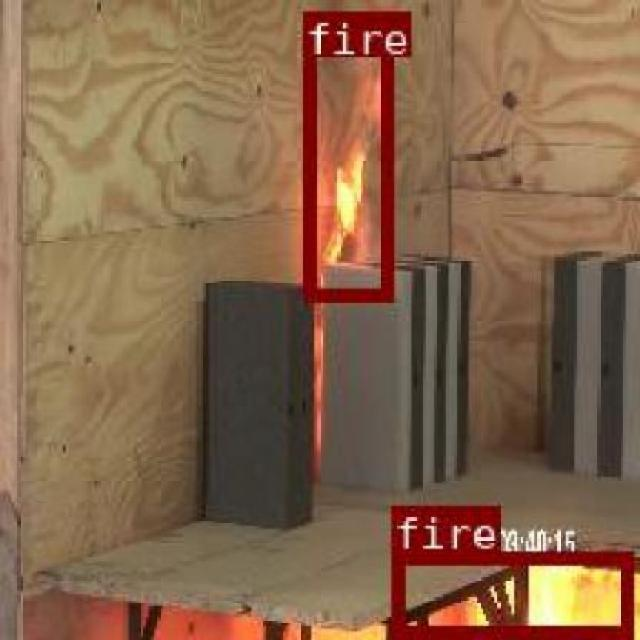Fire: (302, 9, 390, 297), (390, 549, 630, 634)
